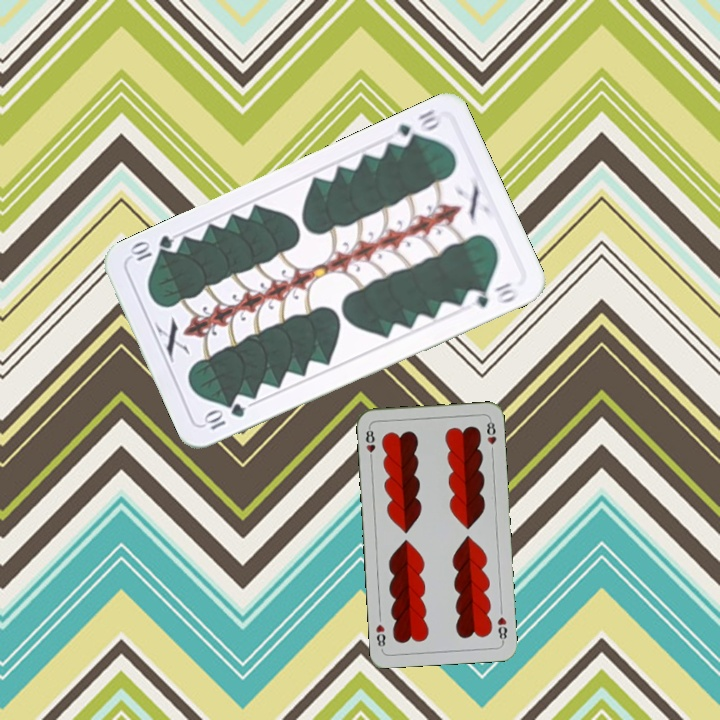G10: (386, 104, 443, 150), (200, 399, 248, 433)
H8: (362, 423, 378, 464), (493, 613, 510, 645)
